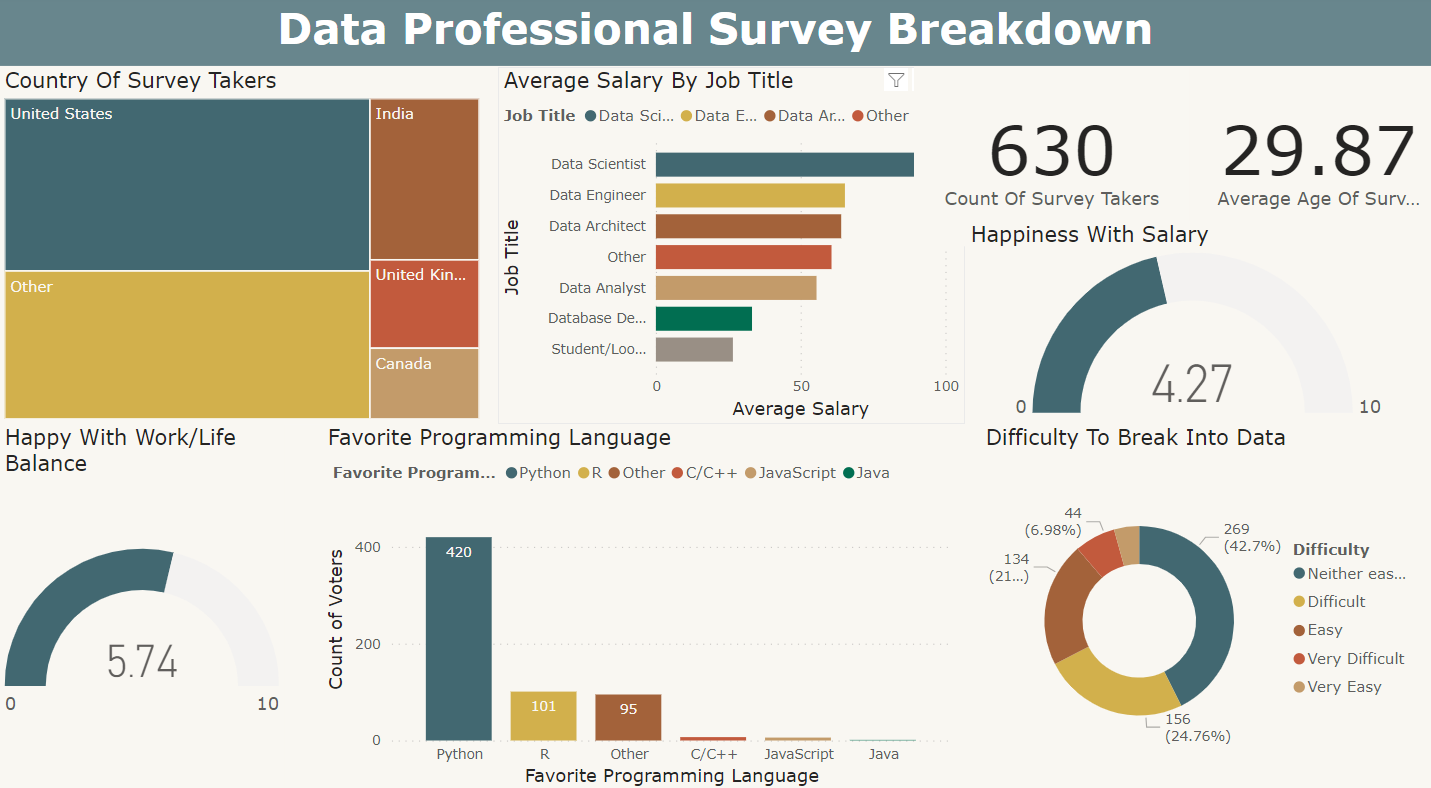

What the dashboard file says about the page in this screenshot:
{"tool":"powerbi","page":{"name":"Page 1","canvas":[1280,720],"ordinal":0},"visuals":[{"type":"textbox","box":[9.7,0,1270.3,62.2],"z":0},{"type":"barChart","title":"Average Salary By Job Title","fields":{"Y":["Avg(Data Professional Survey (2).Average Salary)"],"Category":["Data Professional Survey (2).Q1 - Which Title Best Fits your Current Role?.1"],"Series":["Data Professional Survey (2).Q1 - Which Title Best Fits your Current Role?.1"]},"box":[452.2,62.7,413.7,317],"z":1000},{"type":"treemap","title":"Country Of Survey Takers","fields":{"Group":["Data Professional Survey (2).Q11 - Which Country do you live in?.1"],"Values":["CountNonNull(Data Professional Survey (2).Q11 - Which Country do you live in?.1)"]},"box":[9.9,62.7,430.7,317],"z":2000},{"type":"card","fields":{"Values":["Count(Data Professional Survey (2).Unique ID)"]},"box":[821.2,62.7,244.5,158.5],"z":3000},{"type":"card","fields":{"Values":["Avg(Data Professional Survey (2).Q10 - Current Age)"]},"box":[1080,62.7,199.7,158.5],"z":4000},{"type":"columnChart","title":"Favorite Programming Language","fields":{"Y":["CountNonNull(Data Professional Survey (2).Unique ID)"],"Category":["Data Professional Survey (2).Q5 - Favorite Programming Language.1"],"Series":["Data Professional Survey (2).Q5 - Favorite Programming Language.1"]},"box":[296.4,379.7,563.3,326],"z":5000},{"type":"donutChart","title":"Difficulty To Break Into Data","fields":{"Y":["CountNonNull(Data Professional Survey (2).Q7 - How difficult was it for you to break into Data?)"],"Category":["Data Professional Survey (2).Q7 - How difficult was it for you to break into Data?"]},"box":[879.4,379.7,400.3,326],"z":6000},{"type":"gauge","title":"Happy With Work/Life Balance","fields":{"Y":["Avg(Data Professional Survey (2).Q6 - How Happy are you in your Current Position with the following? (Work/Life Balance)"],"MinValue":["Min(Data Professional Survey (2).Q6 - How Happy are you in your Current Position with the following? (Work/Life Balance)"],"MaxValue":["Max(Data Professional Survey (2).Q6 - How Happy are you in your Current Position with the following? (Work/Life Balance)"]},"box":[9.9,379.7,253.4,326],"z":7000},{"type":"gauge","title":"Happiness With Salary","fields":{"Y":["Avg(Data Professional Survey (2).Q6 - How Happy are you in your Current Position with the following? (Salary))"],"MinValue":["Min(Data Professional Survey (2).Q6 - How Happy are you in your Current Position with the following? (Salary))"],"MaxValue":["Max(Data Professional Survey (2).Q6 - How Happy are you in your Current Position with the following? (Salary))"]},"box":[866,199.7,413.7,180],"z":8000}]}

Visuals, with their boxes in screenshot pixels (x1, y1, x2, y2), scaled from the page's 1280x720 canvas onto the 1431x788 screenshot:
textbox: (11,0,1430,68)
"Average Salary By Job Title" barChart: (506,69,968,416)
"Country Of Survey Takers" treemap: (11,69,493,416)
card - Count(Data Professional Survey (2).Unique ID): (918,69,1191,242)
card - Avg(Data Professional Survey (2).Q10 - Current Age): (1207,69,1430,242)
"Favorite Programming Language" columnChart: (331,416,961,772)
"Difficulty To Break Into Data" donutChart: (983,416,1430,772)
"Happy With Work/Life Balance" gauge: (11,416,294,772)
"Happiness With Salary" gauge: (968,219,1430,416)
